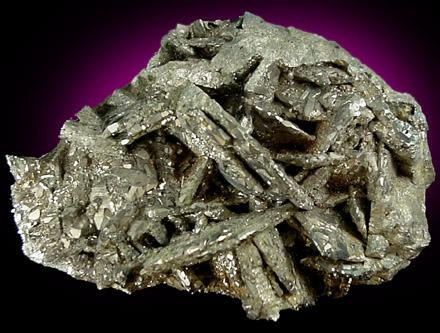pyrite: (6, 12, 435, 321)
